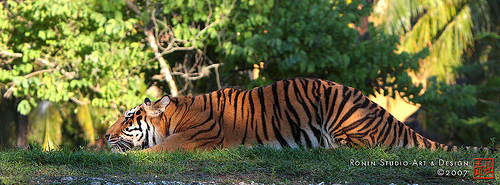Tigre: (107, 87, 424, 168)
